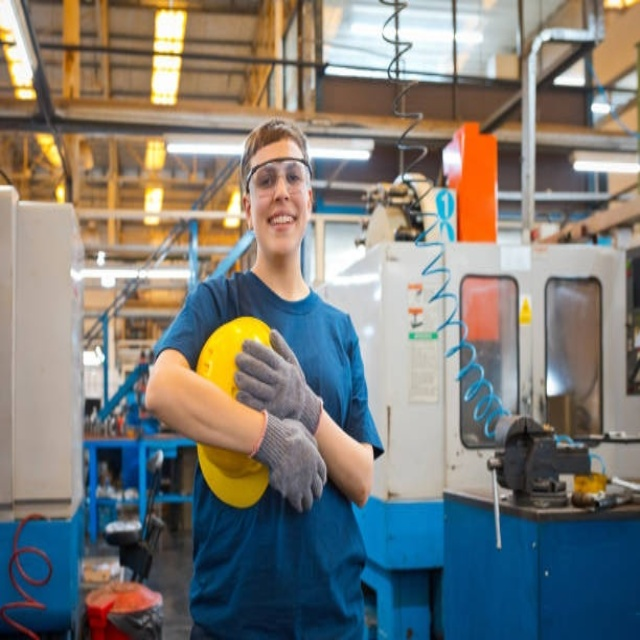Gafas: (245, 156, 312, 196)
Guantes: (233, 330, 323, 437), (250, 406, 330, 515)
Sin_mascara: (262, 205, 302, 243)
